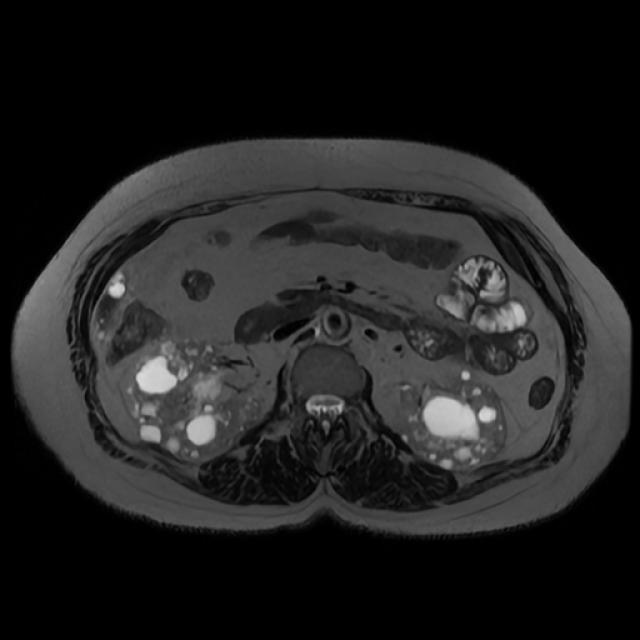sag: (132, 342, 259, 455)
sol: (400, 370, 508, 471)
